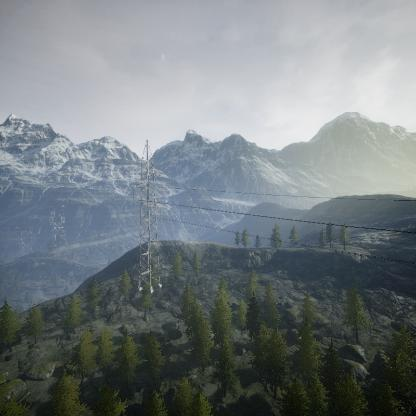tower: (129, 134, 169, 296)
